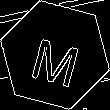M_N: (26, 24, 84, 86)
